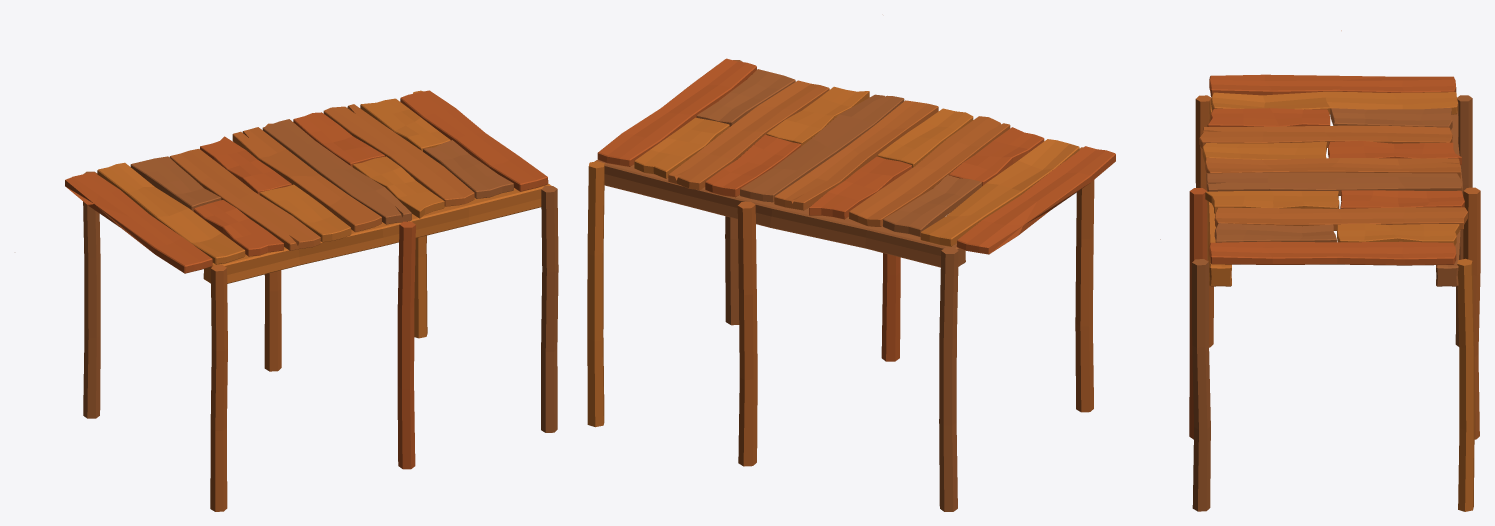
File: pontemenor.fbx
The picture shows the model from 3 angles, left to right: view 1: azimuth 30°, elevation 25°; view 2: azimuth 150°, elevation 25°; view 3: azimuth 270°, elevation 25°; orthographic projection. The views are drawn at different scales.
Visible parts, largest first — view 1: Cube.014, Cube.029, Cube.009, Cylinder.002, Cube.008, Cube.001, Cylinder.001, Cube.002, Cylinder.005, Cube.007, Cube, Cylinder (+10 smaller); view 2: Cube.015, Cube.029, Cube.009, Cylinder.003, Cube.001, Cube.008, Cylinder, Cube.002, Cube, Cube.007, Cylinder.004, Cylinder.001 (+10 smaller); view 3: Cube.009, Cube.007, Cube.029, Cylinder.005, Cube.008, Cube.001, Cube.002, Cylinder.004, Cube, Cylinder.003, Cube.011, Cube.013 (+11 smaller).
Boxes of the visible parts, x1,y1,x2,y2 form: Cube.014: (203, 183, 551, 283); Cube.029: (65, 172, 212, 273); Cube.009: (400, 90, 548, 191); Cylinder.002: (397, 221, 415, 469); Cube.008: (323, 104, 474, 206); Cube.001: (169, 149, 320, 250); Cylinder.001: (210, 265, 227, 511); Cube.002: (97, 162, 245, 264); Cylinder.005: (541, 186, 558, 432); Cube.007: (262, 119, 411, 224); Cube: (232, 127, 381, 231); Cylinder: (83, 171, 100, 418); Cube.015: (595, 159, 965, 267); Cube.029: (956, 146, 1115, 254); Cube.009: (597, 58, 756, 166); Cylinder.003: (737, 201, 757, 466); Cube.001: (849, 116, 1010, 226); Cube.008: (668, 80, 829, 190); Cylinder: (939, 247, 958, 511); Cube.002: (920, 139, 1079, 246); Cube: (774, 100, 938, 210); Cube.007: (740, 94, 904, 202); Cylinder.004: (587, 161, 604, 427); Cylinder.001: (1075, 147, 1094, 412); Cube.009: (1209, 241, 1456, 265); Cube.007: (1206, 172, 1461, 195); Cube.029: (1209, 74, 1456, 96); Cylinder.005: (1192, 259, 1210, 511); Cube.008: (1214, 207, 1467, 230); Cube.001: (1199, 125, 1452, 148); Cube.002: (1211, 91, 1457, 114); Cylinder.004: (1457, 258, 1474, 511); Cube: (1205, 158, 1460, 178); Cylinder.003: (1463, 187, 1480, 439); Cube.011: (1205, 191, 1339, 213); Cube.013: (1337, 223, 1459, 245).
Bounding box in the file's own units: 502 × 326 × 262.
